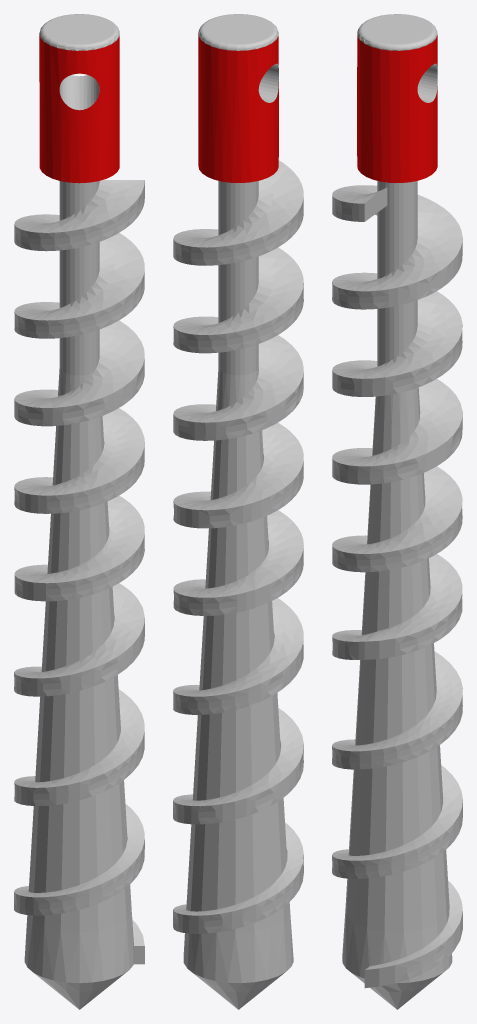
The model's file is fuso_extrusor_V3_2_2mm__step_29.obj.
The picture shows the model from 3 angles, left to right: view 1: azimuth 90°, elevation 25°; view 2: azimuth 150°, elevation 25°; view 3: azimuth 330°, elevation 25°; orthographic projection.
Visible parts, largest first — view 1: Object1; view 2: Object1; view 3: Object1.
Part boxes in pixels (x1=…): Object1: x1=14, y1=14, x2=144, y2=1009; Object1: x1=173, y1=14, x2=303, y2=1009; Object1: x1=332, y1=14, x2=462, y2=1009.
Size of the model in its own units: 13 by 108 by 13.
